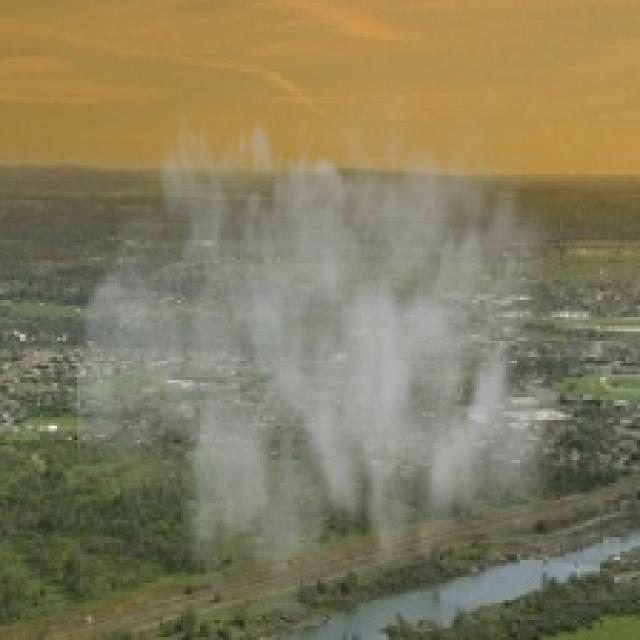Smoke: (77, 57, 592, 614)
